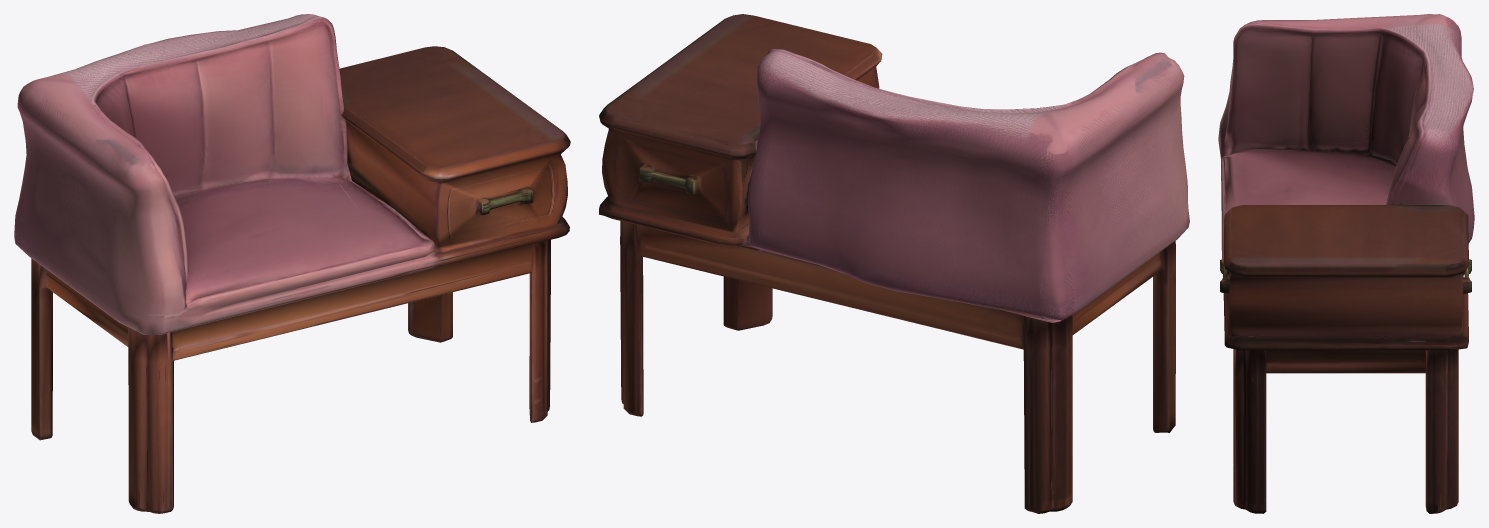
File: Table_Vintage_Telephone_36InchTall_0222185447_texture.glb
3 views of the same model, side by side, from view 1: azimuth 30°, elevation 25°; view 2: azimuth 150°, elevation 25°; view 3: azimuth 270°, elevation 25° (orthographic). The views are drawn at different scales.
Visible parts, largest first — view 1: Mesh_0; view 2: Mesh_0; view 3: Mesh_0.
Boxes of the visible parts, x1,y1,x2,y2 form: Mesh_0: (14,14,570,513); Mesh_0: (599,14,1189,513); Mesh_0: (1218,14,1474,513).
Size of the model in its own units: 1.17 by 0.9144 by 0.6562.
Materials: 1 (1 with a texture image).
